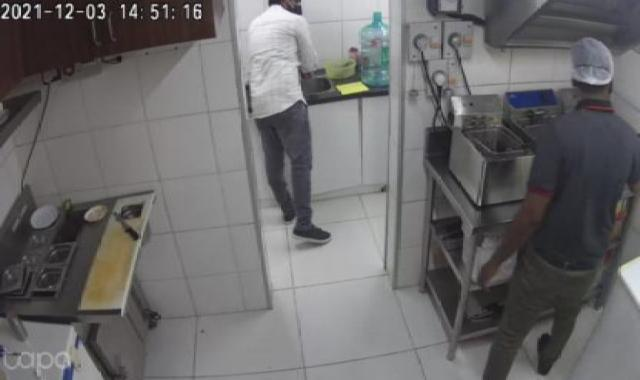hairnet: (558, 35, 627, 98)
